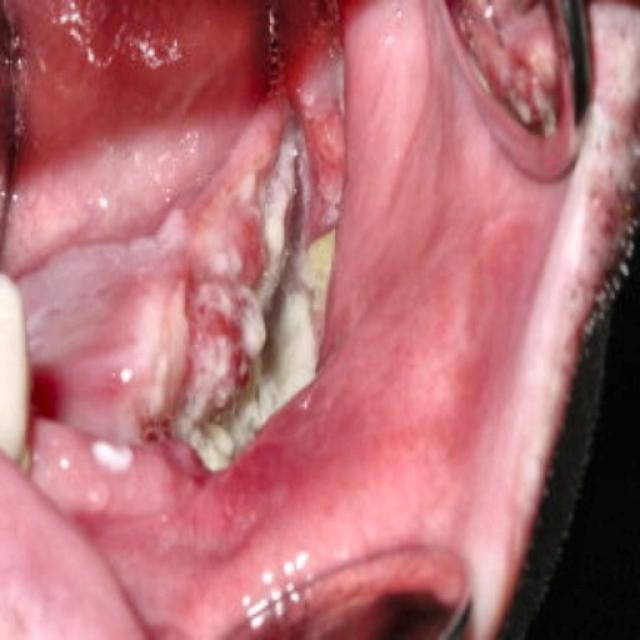cancer-detection: (111, 114, 349, 493)
processing_area: (2, 1, 636, 639)
